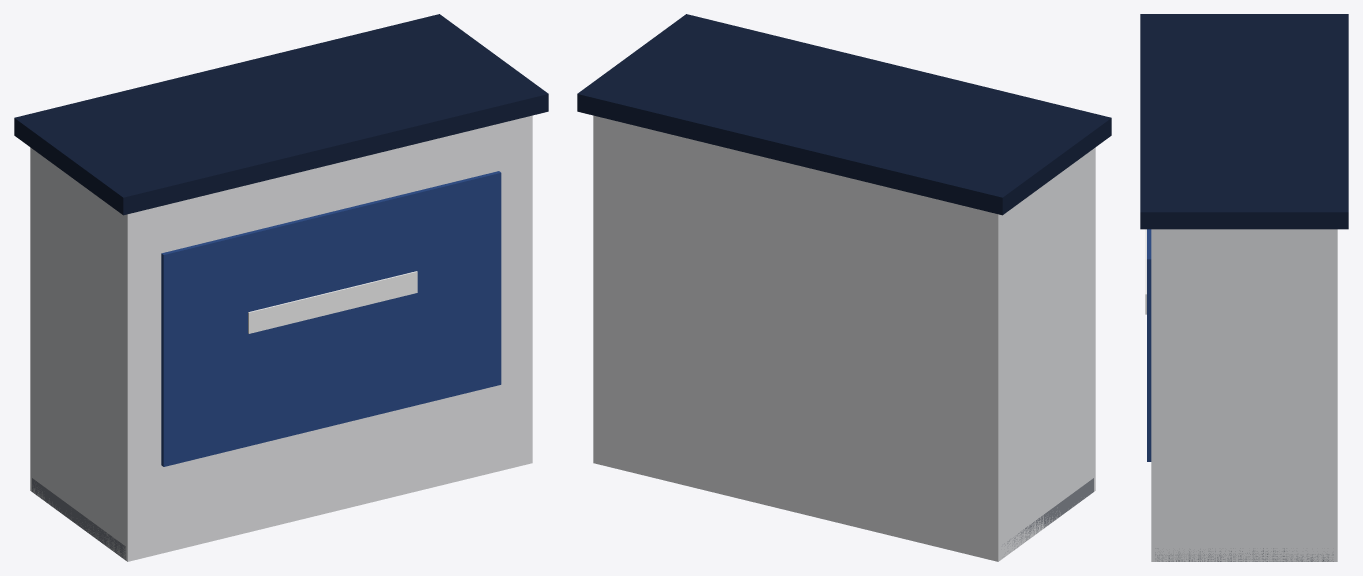
The model's file is counter.glb.
3 renders of one model, left to right at view 1: azimuth 30°, elevation 25°; view 2: azimuth 150°, elevation 25°; view 3: azimuth 270°, elevation 25°, orthographic. The views are drawn at different scales.
Size of the model in its own units: 1.26 by 1.05 by 0.56.
